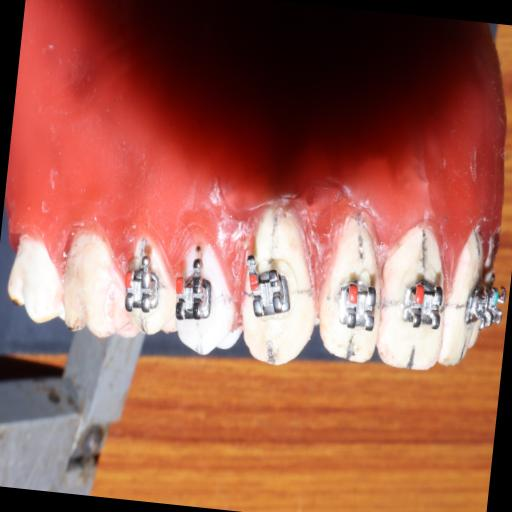incorrect_brace: (242, 260, 296, 322)
